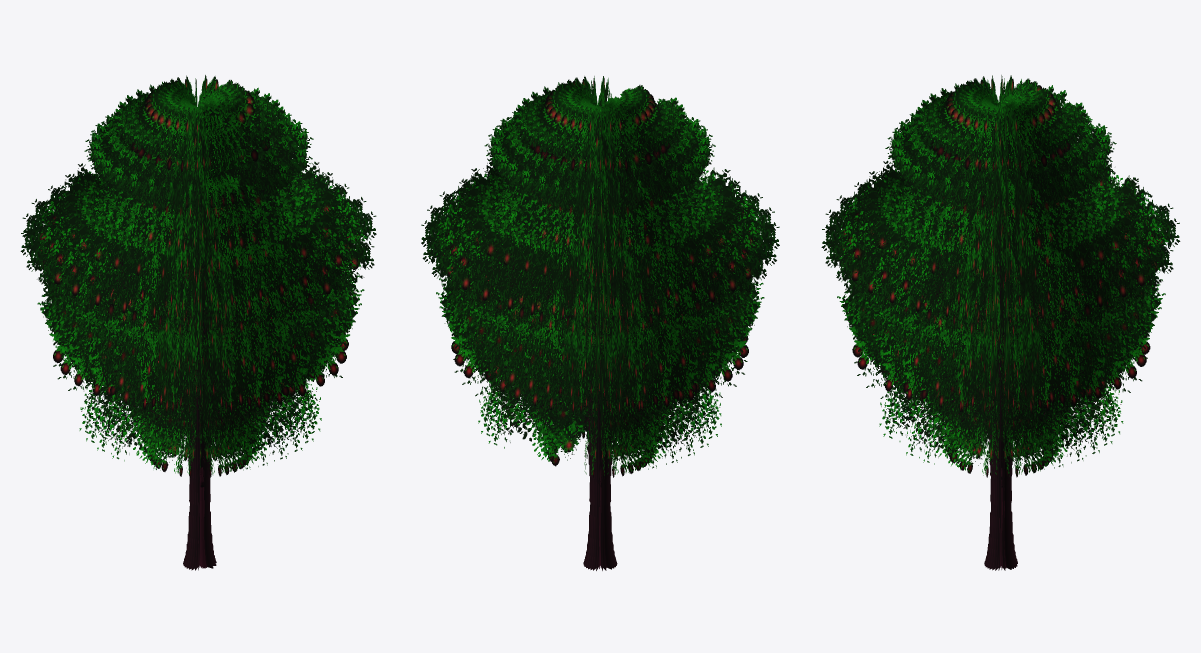
Rendered from tree.dae.
3 views of the same model, side by side, from view 1: azimuth 30°, elevation 25°; view 2: azimuth 150°, elevation 25°; view 3: azimuth 270°, elevation 25° (orthographic).
Visible parts, largest first — view 1: Apple_Tree; view 2: Apple_Tree; view 3: Apple_Tree.
Boxes of the visible parts, left/top/right/bottom form: Apple_Tree: left=20, top=75, right=376, bottom=570; Apple_Tree: left=421, top=76, right=779, bottom=570; Apple_Tree: left=821, top=75, right=1180, bottom=570.
Bounding box in the file's own units: 2.14 × 2.14 × 3.07.
Materials: 1 (1 with a texture image).
